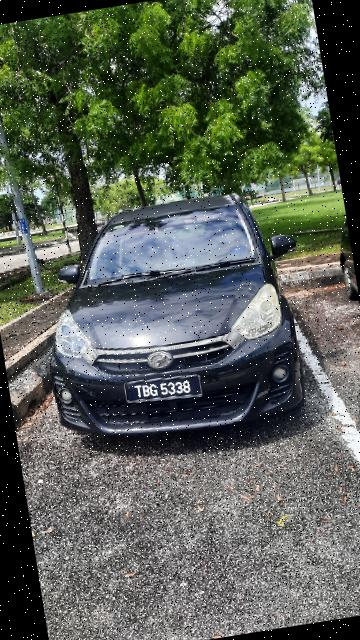License_Plate: (121, 367, 209, 414)
car: (22, 178, 322, 453)
